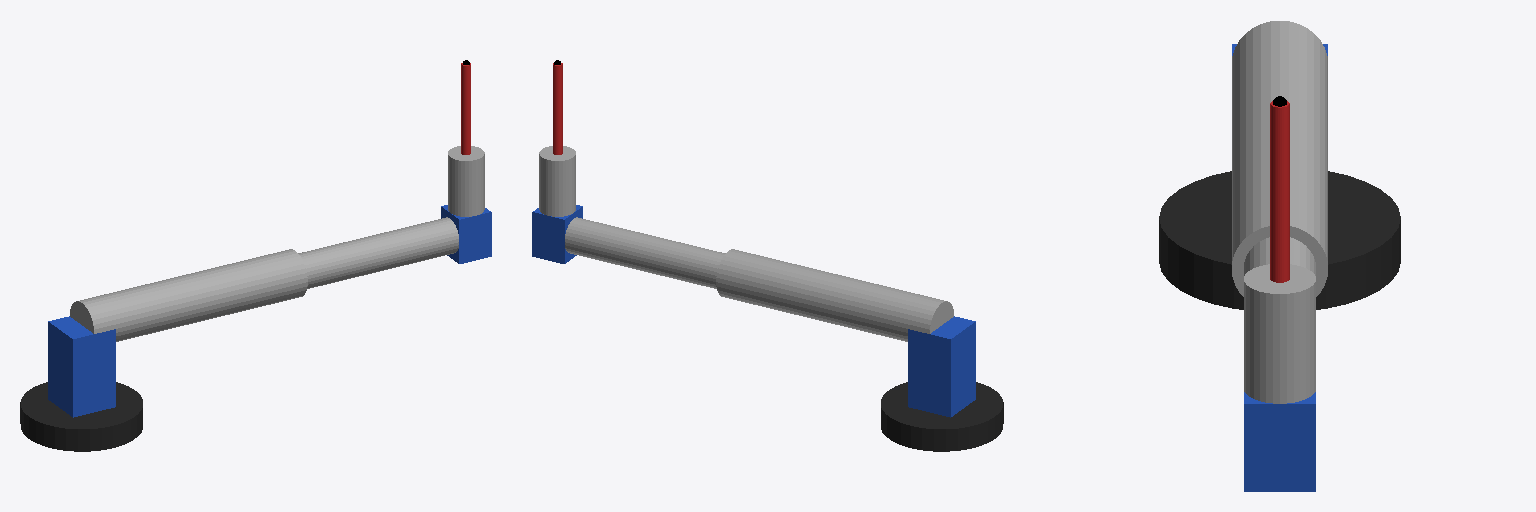
The robot description file, URDF, robot "koch_writing_arm":
<?xml version="1.0"?>
<robot name="koch_writing_arm">

  <!-- Base Link -->
  <link name="base_link">
    <visual>
      <geometry>
        <cylinder radius="0.05" length="0.02"/>
      </geometry>
      <material name="black">
        <color rgba="0.2 0.2 0.2 1"/>
      </material>
    </visual>
    <collision>
      <geometry>
        <cylinder radius="0.05" length="0.02"/>
      </geometry>
    </collision>
    <inertial>
      <mass value="0.5"/>
      <inertia ixx="0.001" ixy="0.0" ixz="0.0" iyy="0.001" iyz="0.0" izz="0.001"/>
    </inertial>
  </link>

  <!-- Joint 1: Shoulder Pan (Base Rotation) - XL430 -->
  <joint name="shoulder_pan" type="revolute">
    <parent link="base_link"/>
    <child link="shoulder_link"/>
    <origin xyz="0 0 0.04" rpy="0 0 0"/>
    <axis xyz="0 0 1"/>
    <limit lower="-3.14" upper="3.14" effort="1.0" velocity="2.0"/>
  </joint>

  <link name="shoulder_link">
    <visual>
      <geometry>
        <box size="0.04 0.04 0.08"/>
      </geometry>
      <material name="blue">
        <color rgba="0.2 0.4 0.8 1"/>
      </material>
    </visual>
    <collision>
      <geometry>
        <box size="0.04 0.04 0.08"/>
      </geometry>
    </collision>
    <inertial>
      <mass value="0.2"/>
      <inertia ixx="0.0001" ixy="0.0" ixz="0.0" iyy="0.0001" iyz="0.0" izz="0.0001"/>
    </inertial>
  </link>

  <!-- Joint 2: Shoulder Lift (Shoulder Pitch) - XL330 -->
  <joint name="shoulder_lift" type="revolute">
    <parent link="shoulder_link"/>
    <child link="upper_arm_link"/>
    <origin xyz="0 0 0.04" rpy="0 0 0"/>
    <axis xyz="0 1 0"/>
    <!-- TODO: Update limits based on actual Koch v1.1 specs -->
    <limit lower="-2.0" upper="2.0" effort="1.0" velocity="2.0"/>
  </joint>

  <link name="upper_arm_link">
    <visual>
      <origin xyz="0.10 0 0" rpy="0 1.5708 0"/>
      <geometry>
        <cylinder radius="0.02" length="0.20"/>
      </geometry>
      <material name="silver">
        <color rgba="0.7 0.7 0.7 1"/>
      </material>
    </visual>
    <collision>
      <origin xyz="0.10 0 0" rpy="0 1.5708 0"/>
      <geometry>
        <cylinder radius="0.02" length="0.20"/>
      </geometry>
    </collision>
    <inertial>
      <origin xyz="0.10 0 0" rpy="0 0 0"/>
      <mass value="0.15"/>
      <inertia ixx="0.0005" ixy="0.0" ixz="0.0" iyy="0.0005" iyz="0.0" izz="0.00001"/>
    </inertial>
  </link>

  <!-- Joint 3: Elbow Flex - XL330 -->
  <joint name="elbow_flex" type="revolute">
    <parent link="upper_arm_link"/>
    <child link="forearm_link"/>
    <origin xyz="0.20 0 0" rpy="0 0 0"/>
    <axis xyz="0 1 0"/>
    <limit lower="-2.5" upper="2.5" effort="1.0" velocity="2.0"/>
  </joint>

  <link name="forearm_link">
    <visual>
      <origin xyz="0.08 0 0" rpy="0 1.5708 0"/>
      <geometry>
        <cylinder radius="0.015" length="0.16"/>
      </geometry>
      <material name="silver">
        <color rgba="0.7 0.7 0.7 1"/>
      </material>
    </visual>
    <collision>
      <origin xyz="0.08 0 0" rpy="0 1.5708 0"/>
      <geometry>
        <cylinder radius="0.015" length="0.16"/>
      </geometry>
    </collision>
    <inertial>
      <origin xyz="0.08 0 0" rpy="0 0 0"/>
      <mass value="0.10"/>
      <inertia ixx="0.0002" ixy="0.0" ixz="0.0" iyy="0.0002" iyz="0.0" izz="0.00001"/>
    </inertial>
  </link>

  <!-- Joint 4: Wrist Flex - XL330 -->
  <joint name="wrist_flex" type="revolute">
    <parent link="forearm_link"/>
    <child link="wrist_link"/>
    <origin xyz="0.16 0 0" rpy="0 0 0"/>
    <axis xyz="0 1 0"/>
    <limit lower="-2.0" upper="2.0" effort="1.0" velocity="2.0"/>
  </joint>

  <link name="wrist_link">
    <visual>
      <geometry>
        <box size="0.03 0.03 0.04"/>
      </geometry>
      <material name="blue">
        <color rgba="0.2 0.4 0.8 1"/>
      </material>
    </visual>
    <collision>
      <geometry>
        <box size="0.03 0.03 0.04"/>
      </geometry>
    </collision>
    <inertial>
      <mass value="0.05"/>
      <inertia ixx="0.00001" ixy="0.0" ixz="0.0" iyy="0.00001" iyz="0.0" izz="0.00001"/>
    </inertial>
  </link>

  <!-- Joint 5: Wrist Roll - XL330 -->
  <joint name="wrist_roll" type="revolute">
    <parent link="wrist_link"/>
    <child link="hand_link"/>
    <origin xyz="0 0 0.02" rpy="0 0 0"/>
    <axis xyz="0 0 1"/>
    <limit lower="-3.14" upper="3.14" effort="0.5" velocity="2.0"/>
  </joint>

  <link name="hand_link">
    <visual>
      <origin xyz="0 0 0.025" rpy="0 0 0"/>
      <geometry>
        <cylinder radius="0.015" length="0.05"/>
      </geometry>
      <material name="silver">
        <color rgba="0.7 0.7 0.7 1"/>
      </material>
    </visual>
    <collision>
      <origin xyz="0 0 0.025" rpy="0 0 0"/>
      <geometry>
        <cylinder radius="0.015" length="0.05"/>
      </geometry>
    </collision>
    <inertial>
      <origin xyz="0 0 0.025" rpy="0 0 0"/>
      <mass value="0.03"/>
      <inertia ixx="0.00001" ixy="0.0" ixz="0.0" iyy="0.00001" iyz="0.0" izz="0.00001"/>
    </inertial>
  </link>

  <!-- Joint 6: Pen Holder (Fixed position for writing) - XL330 -->
  <!-- For writing, we'll keep this joint at a fixed angle -->
  <joint name="pen_holder" type="revolute">
    <parent link="hand_link"/>
    <child link="pen_link"/>
    <origin xyz="0 0 0.05" rpy="0 0 0"/>
    <axis xyz="0 1 0"/>
    <!-- Limited range - pen holder stays mostly fixed -->
    <limit lower="-0.5" upper="0.5" effort="0.3" velocity="1.0"/>
  </joint>

  <link name="pen_link">
    <visual>
      <origin xyz="0 0 0.04" rpy="0 0 0"/>
      <geometry>
        <cylinder radius="0.004" length="0.08"/>
      </geometry>
      <material name="red">
        <color rgba="0.8 0.2 0.2 1"/>
      </material>
    </visual>
    <collision>
      <origin xyz="0 0 0.04" rpy="0 0 0"/>
      <geometry>
        <cylinder radius="0.004" length="0.08"/>
      </geometry>
    </collision>
    <inertial>
      <origin xyz="0 0 0.04" rpy="0 0 0"/>
      <mass value="0.01"/>
      <inertia ixx="0.000001" ixy="0.0" ixz="0.0" iyy="0.000001" iyz="0.0" izz="0.000001"/>
    </inertial>
  </link>

  <!-- Pen Tip (End Effector) -->
  <joint name="pen_tip_joint" type="fixed">
    <parent link="pen_link"/>
    <child link="pen_tip"/>
    <origin xyz="0 0 0.08" rpy="0 0 0"/>
  </joint>

  <link name="pen_tip">
    <visual>
      <geometry>
        <sphere radius="0.003"/>
      </geometry>
      <material name="black">
        <color rgba="0 0 0 1"/>
      </material>
    </visual>
  </link>

  <!-- ROS2 Control Integration -->
  <ros2_control name="koch_writing_system" type="system">
    <hardware>
      <!-- For simulation -->
      <plugin>mock_components/GenericSystem</plugin>
      <!-- For real hardware, replace with: -->
      <!-- <plugin>dynamixel_hardware/DynamixelHardware</plugin> -->
    </hardware>

    <joint name="shoulder_pan">
      <command_interface name="position">
        <param name="min">-3.14</param>
        <param name="max">3.14</param>
      </command_interface>
      <state_interface name="position"/>
      <state_interface name="velocity"/>
    </joint>

    <joint name="shoulder_lift">
      <command_interface name="position">
        <param name="min">-2.0</param>
        <param name="max">2.0</param>
      </command_interface>
      <state_interface name="position"/>
      <state_interface name="velocity"/>
    </joint>

    <joint name="elbow_flex">
      <command_interface name="position">
        <param name="min">-2.5</param>
        <param name="max">2.5</param>
      </command_interface>
      <state_interface name="position"/>
      <state_interface name="velocity"/>
    </joint>

    <joint name="wrist_flex">
      <command_interface name="position">
        <param name="min">-2.0</param>
        <param name="max">2.0</param>
      </command_interface>
      <state_interface name="position"/>
      <state_interface name="velocity"/>
    </joint>

    <joint name="wrist_roll">
      <command_interface name="position">
        <param name="min">-3.14</param>
        <param name="max">3.14</param>
      </command_interface>
      <state_interface name="position"/>
      <state_interface name="velocity"/>
    </joint>

    <joint name="pen_holder">
      <command_interface name="position">
        <param name="min">-0.5</param>
        <param name="max">0.5</param>
      </command_interface>
      <state_interface name="position"/>
      <state_interface name="velocity"/>
    </joint>
  </ros2_control>

</robot>

--- Facts derived from the render (not from the file) ---
3 views of the same robot in one strip: view 1: azimuth 30°, elevation 25°; view 2: azimuth 150°, elevation 25°; view 3: azimuth 270°, elevation 25° (orthographic).
Robot: koch_writing_arm — 8 links, 7 joints (6 revolute, 1 fixed); root link base_link; default pose: every joint at zero.
Visible links, largest first — view 1: upper_arm_link, shoulder_link, forearm_link, base_link, hand_link, wrist_link, pen_link; view 2: upper_arm_link, shoulder_link, forearm_link, base_link, hand_link, wrist_link, pen_link; view 3: upper_arm_link, base_link, hand_link, wrist_link, pen_link, forearm_link.
Link boxes in pixels (x1,y1,x2,y2): upper_arm_link: (70, 249, 307, 341); shoulder_link: (48, 316, 115, 417); forearm_link: (298, 217, 458, 288); base_link: (20, 382, 142, 451); hand_link: (448, 146, 484, 216); wrist_link: (441, 205, 491, 263); pen_link: (461, 63, 470, 154); upper_arm_link: (716, 249, 953, 341); shoulder_link: (908, 316, 975, 417); forearm_link: (565, 217, 725, 288); base_link: (881, 382, 1003, 451); hand_link: (539, 146, 575, 216); wrist_link: (532, 205, 582, 263); pen_link: (553, 63, 562, 154); upper_arm_link: (1232, 21, 1327, 296); base_link: (1159, 171, 1400, 309); hand_link: (1244, 264, 1315, 403); wrist_link: (1244, 392, 1315, 491); pen_link: (1270, 101, 1289, 282); forearm_link: (1244, 237, 1315, 275).
Size in the robot's own frame: 0.425 by 0.1 by 0.243 metres.
Geometry: primitives only (box / cylinder / sphere), no mesh files.
